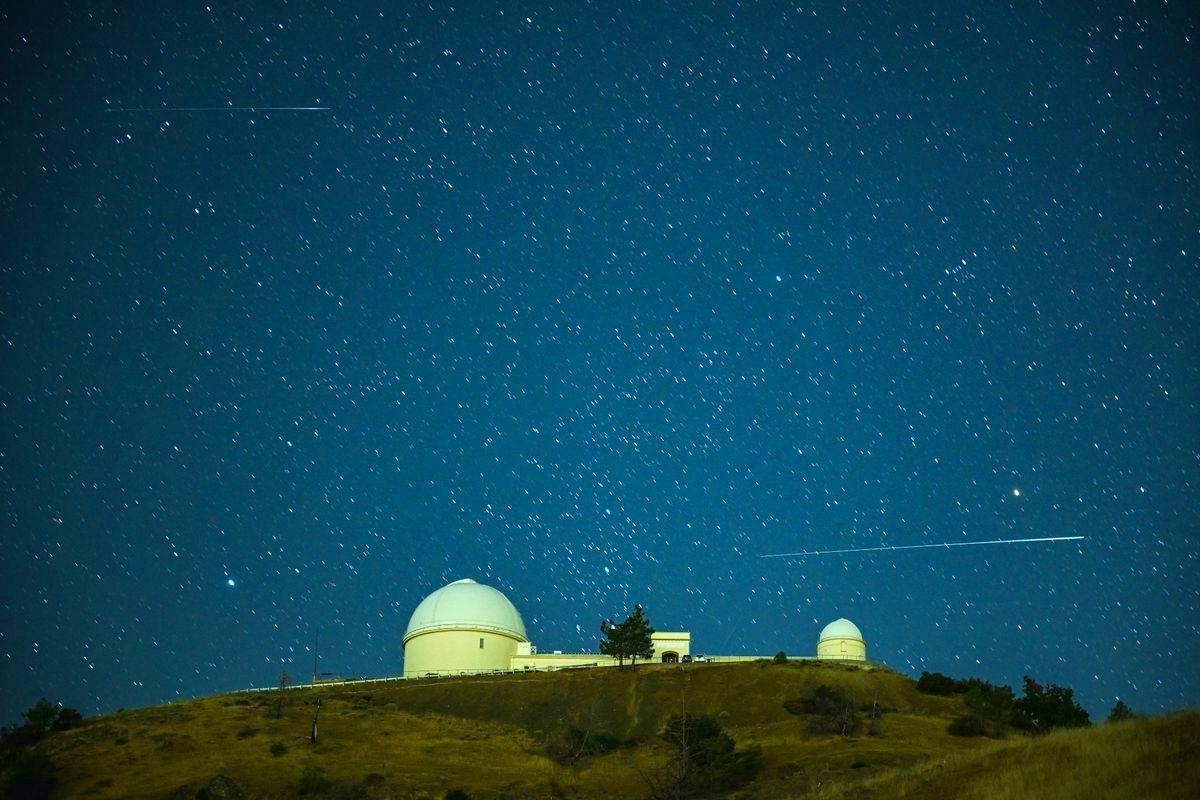meteorite: (769, 526, 1103, 581), (155, 102, 336, 138)
